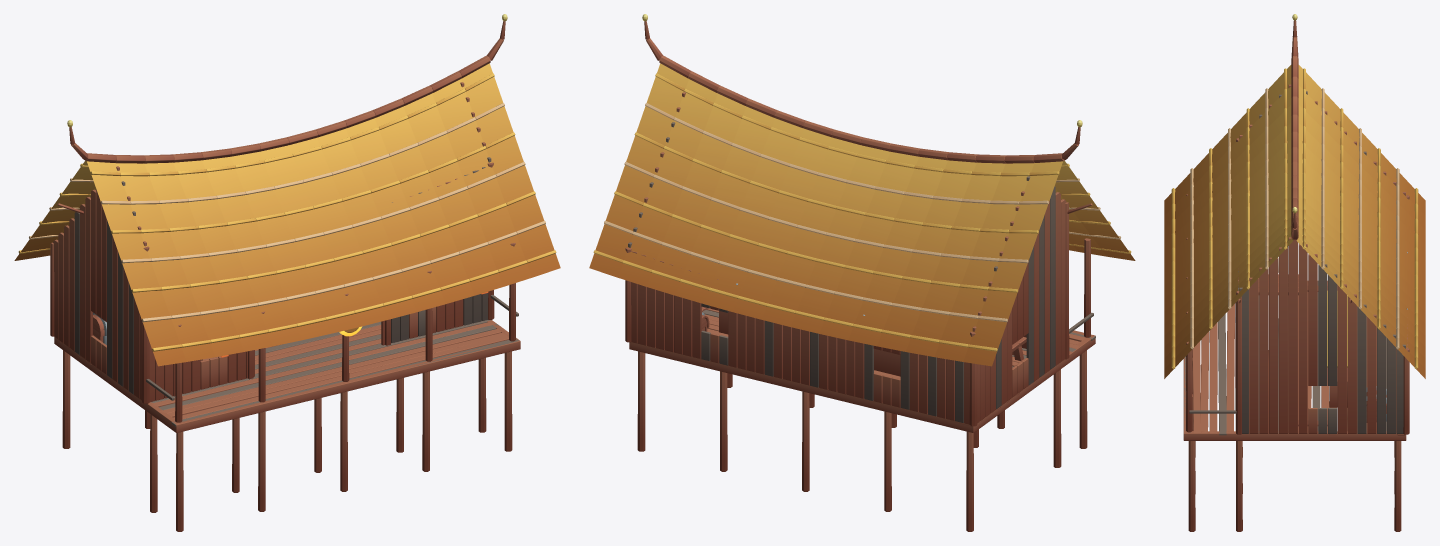
The model's file is bank_rainhold.glb.
The picture shows the model from 3 angles, left to right: view 1: azimuth 30°, elevation 25°; view 2: azimuth 150°, elevation 25°; view 3: azimuth 270°, elevation 25°; orthographic projection. The views are drawn at different scales.
Parts seen in each view (by area): view 1: bank_rainhold; view 2: bank_rainhold; view 3: bank_rainhold.
Part boxes in pixels (x1,y1,x2,y2): bank_rainhold: [14, 14, 560, 531]; bank_rainhold: [589, 14, 1135, 531]; bank_rainhold: [1164, 14, 1425, 531].
Size of the model in its own units: 16.59 by 13.77 by 9.4.
Materials: 5 (5 with a texture image).
